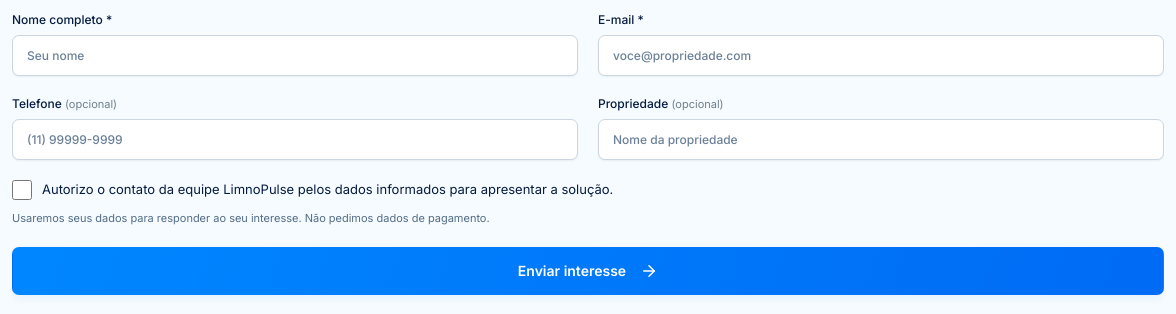
Test: submits only contact data and shows confirmation after persistence
The image size is (1176, 314).
Type "Maria Silva" into the field labelled "Nome completo *".
click(295, 56); type("Maria Silva")  # box [12,35,578,76]
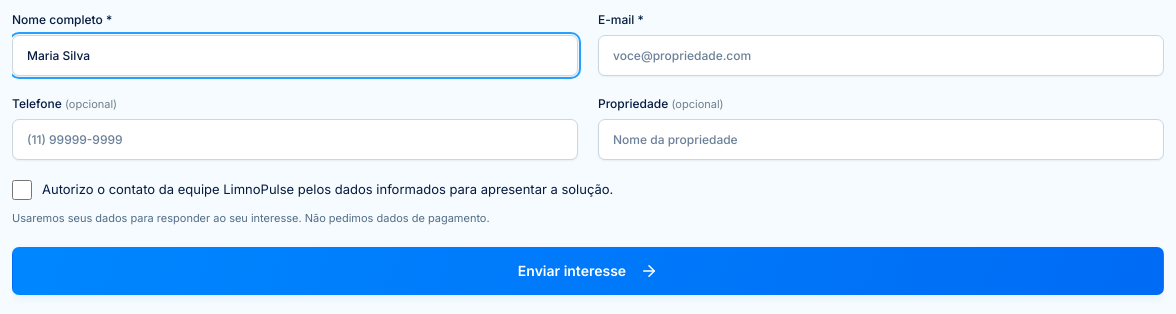
Type "maria@example.com" into the field labelled "E-mail *".
click(881, 56); type("maria@example.com")  # box [598,35,1164,76]
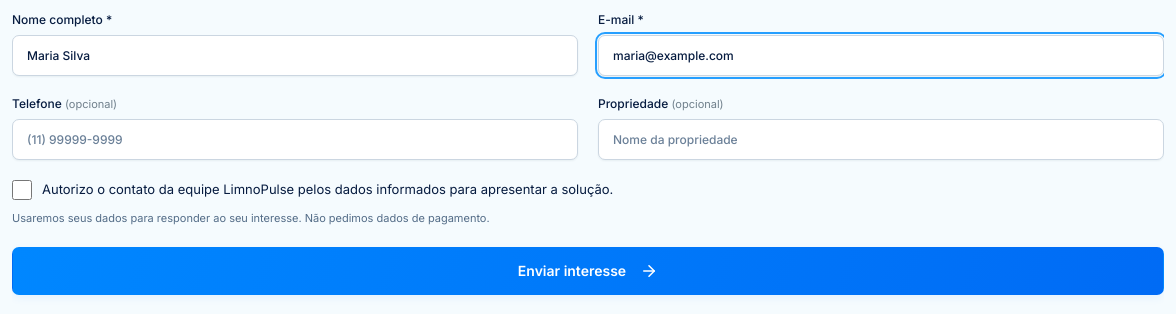
Click the checkbox labelled "Autorizo".
click(22, 190)  # box [12,180,32,200]
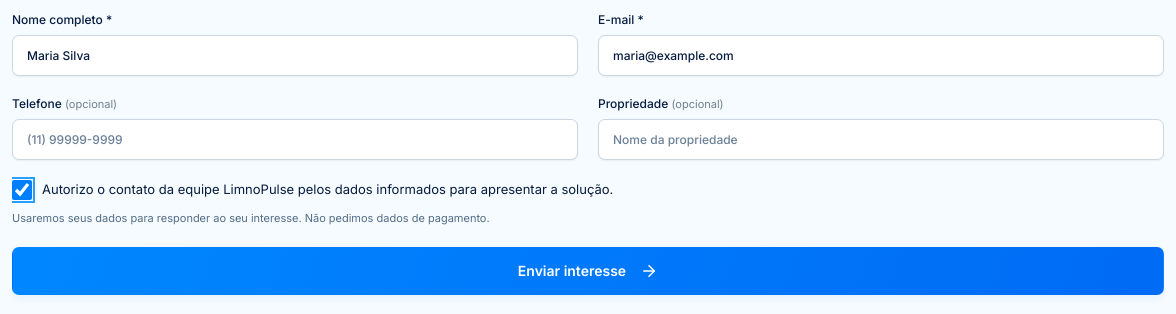
Click the button "Enviar interesse".
click(588, 270)  # box [12,246,1164,294]
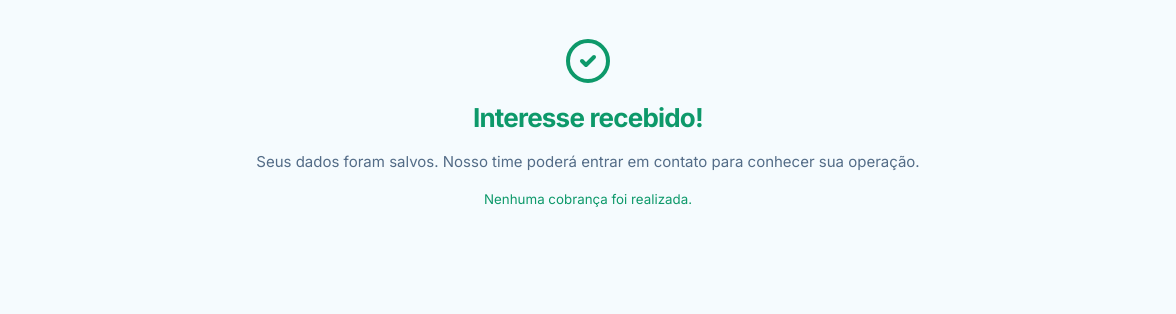
Expected: the heading "Interesse recebido!" is shown, [473,102,703,133]
